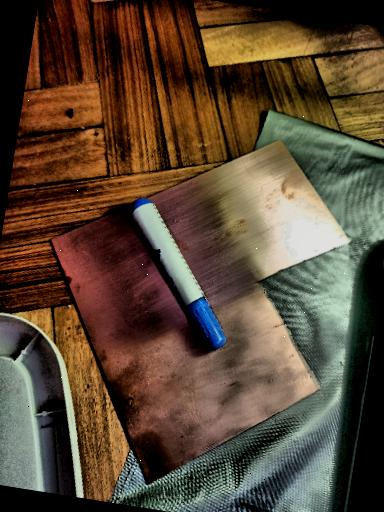marcador azul: (129, 199, 225, 350)
